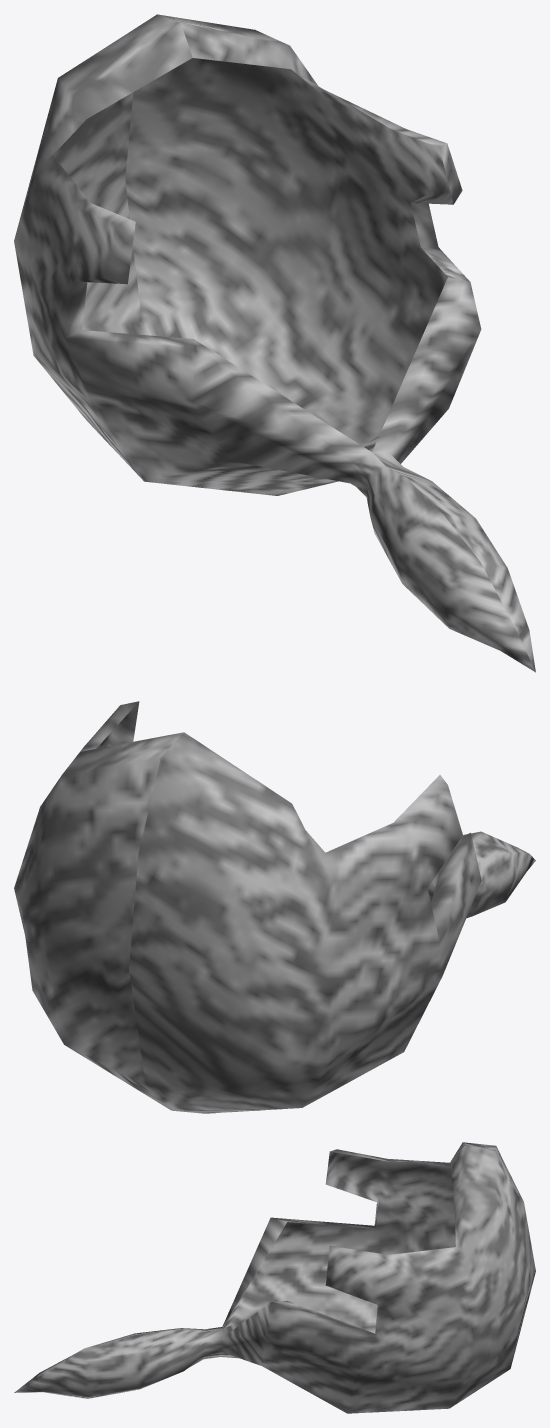
Rendered from Wig_Bob_Hair_PonyTailBraided.fbx.
3 views of the same model, one above another, from view 1: azimuth 30°, elevation 25°; view 2: azimuth 150°, elevation 25°; view 3: azimuth 270°, elevation 25° (orthographic). The views are drawn at different scales.
Visible parts, largest first — view 1: BoxOfJars003; view 2: BoxOfJars003; view 3: BoxOfJars003.
Part boxes in pixels (<box>): BoxOfJars003: <box>14,14,535,672</box>; BoxOfJars003: <box>14,701,535,1113</box>; BoxOfJars003: <box>14,1142,535,1413</box>.
Bounding box in the file's own units: 12.17 × 12.56 × 23.24.
